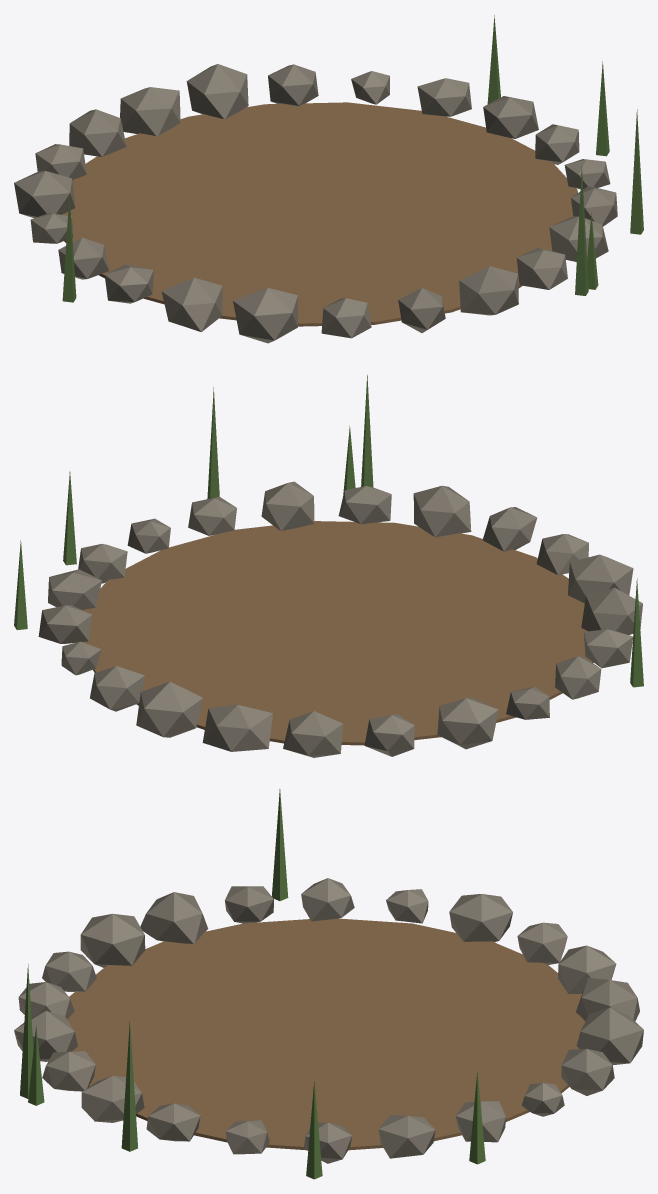
Rendered from pond.glb.
3 renders of one model, top to bottom at view 1: azimuth 30°, elevation 25°; view 2: azimuth 150°, elevation 25°; view 3: azimuth 270°, elevation 25°, orthographic. The views are drawn at different scales.
Parts seen in each view (by area): view 1: pond; view 2: pond; view 3: pond.
Boxes of the visible parts, bbox=[...] form: pond: bbox=[14, 15, 643, 343]; pond: bbox=[14, 375, 643, 757]; pond: bbox=[14, 789, 643, 1179].
Size of the model in its own units: 4.08 by 0.978 by 3.81.
